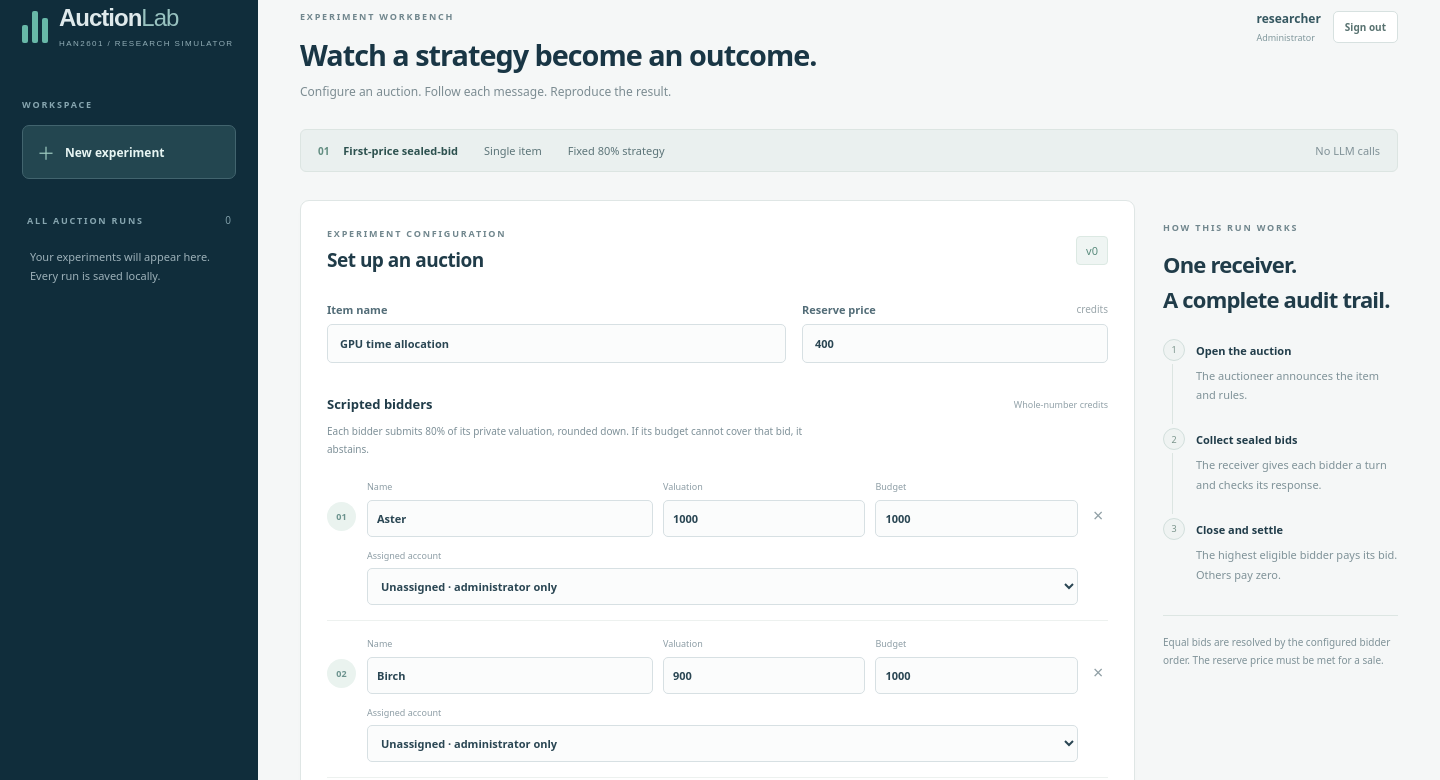
Test case: administrator workbench › creates an assigned auction and includes the session CSRF token
Select "alice" in the dropdown named "Bidder 1 account": x=722, y=587 [367,568,1078,605]
(page scrolled)
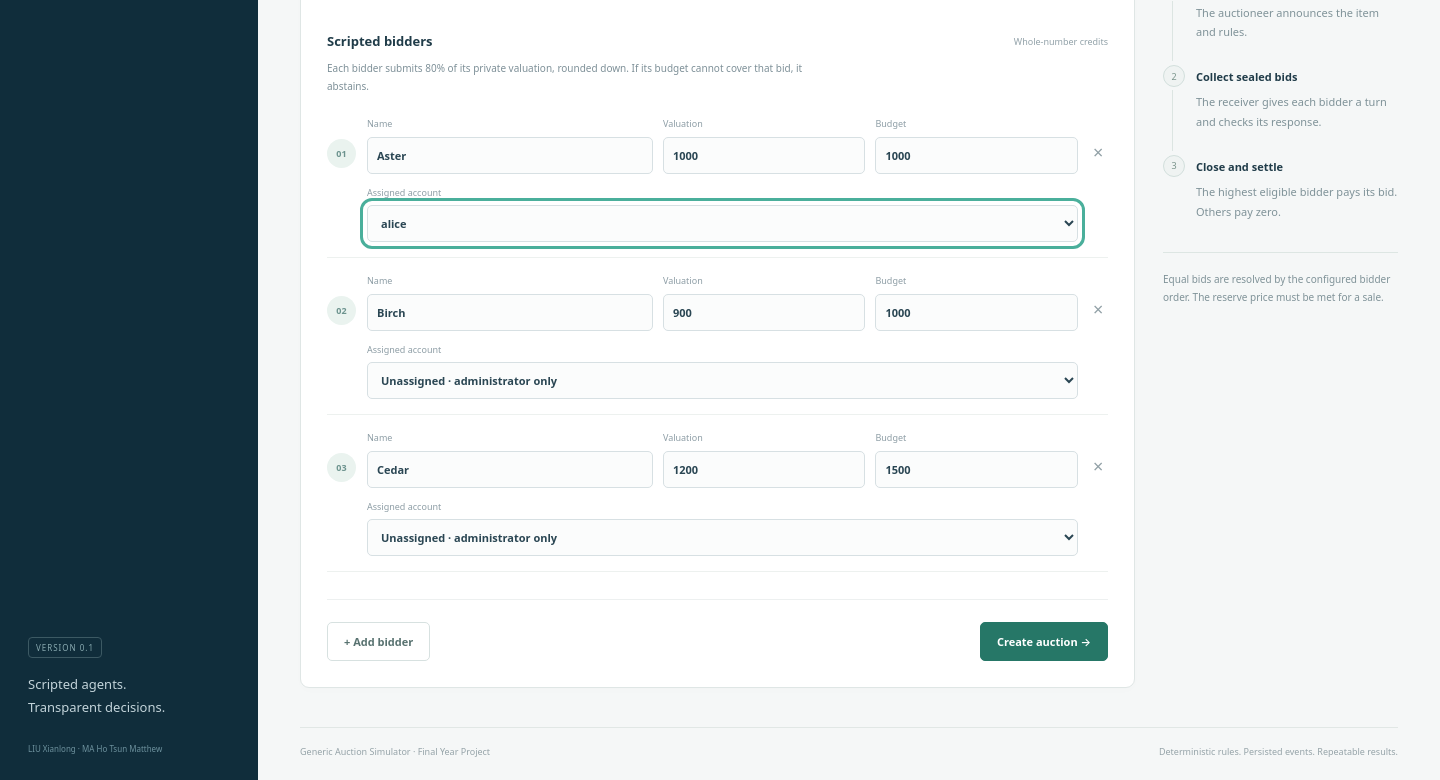
Click the button "Create auction →": x=1044, y=642 [980,622,1108,661]
(page scrolled)
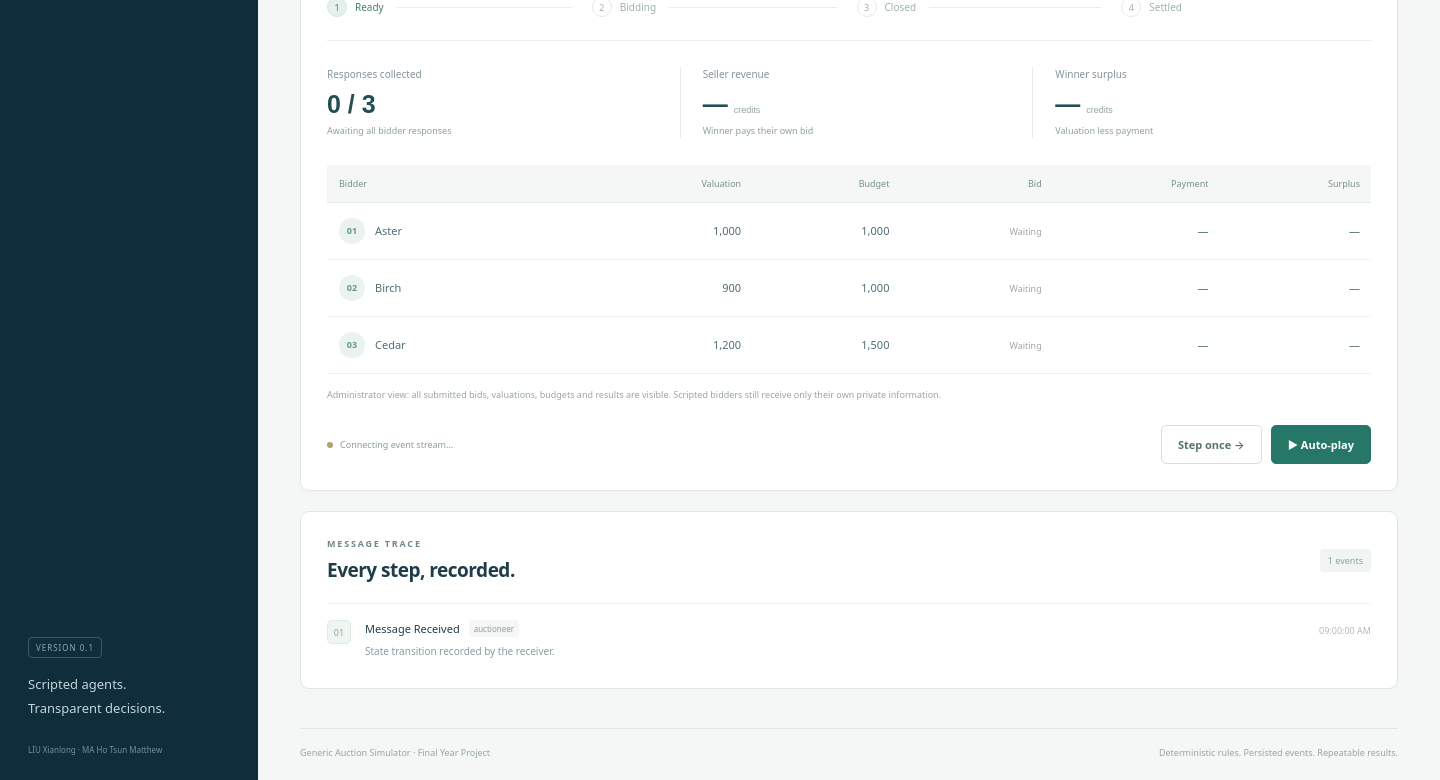
Expected: the button "Step once →" is enabled, [1161,425,1262,464]
Expected: the text "Waiting" is shown 3 times, [1010,225,1042,238]; [1010,282,1042,295]; [1010,339,1042,352]
